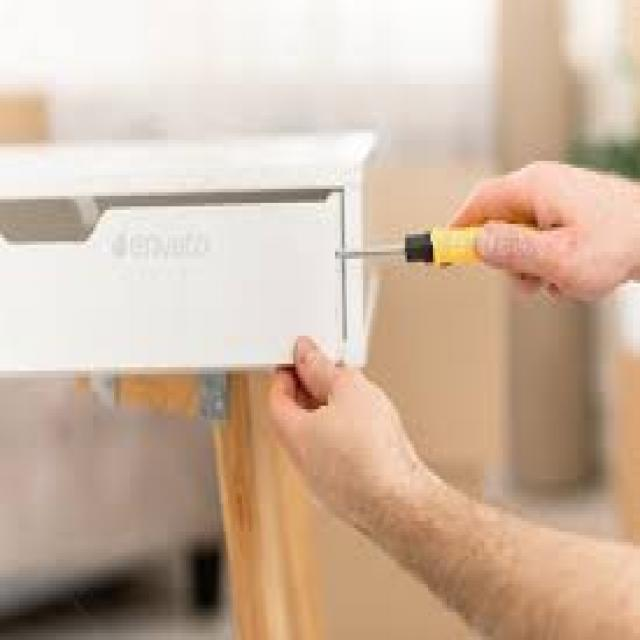screwdriver: (324, 220, 530, 266)
